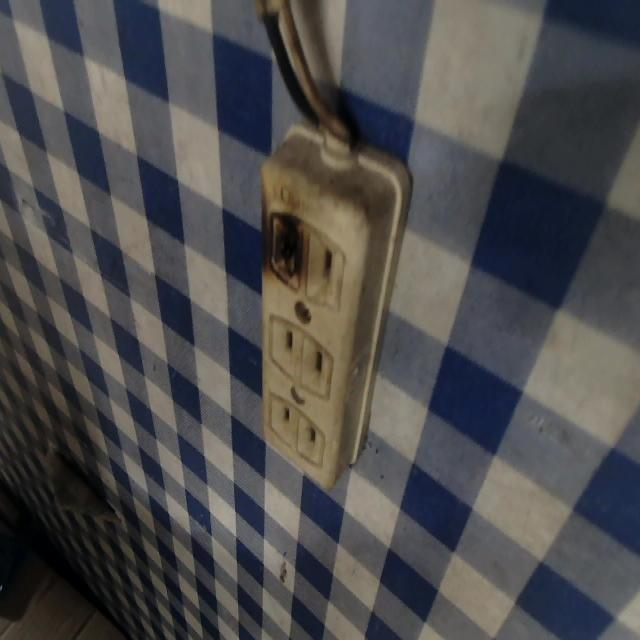-: (257, 184, 314, 304)
